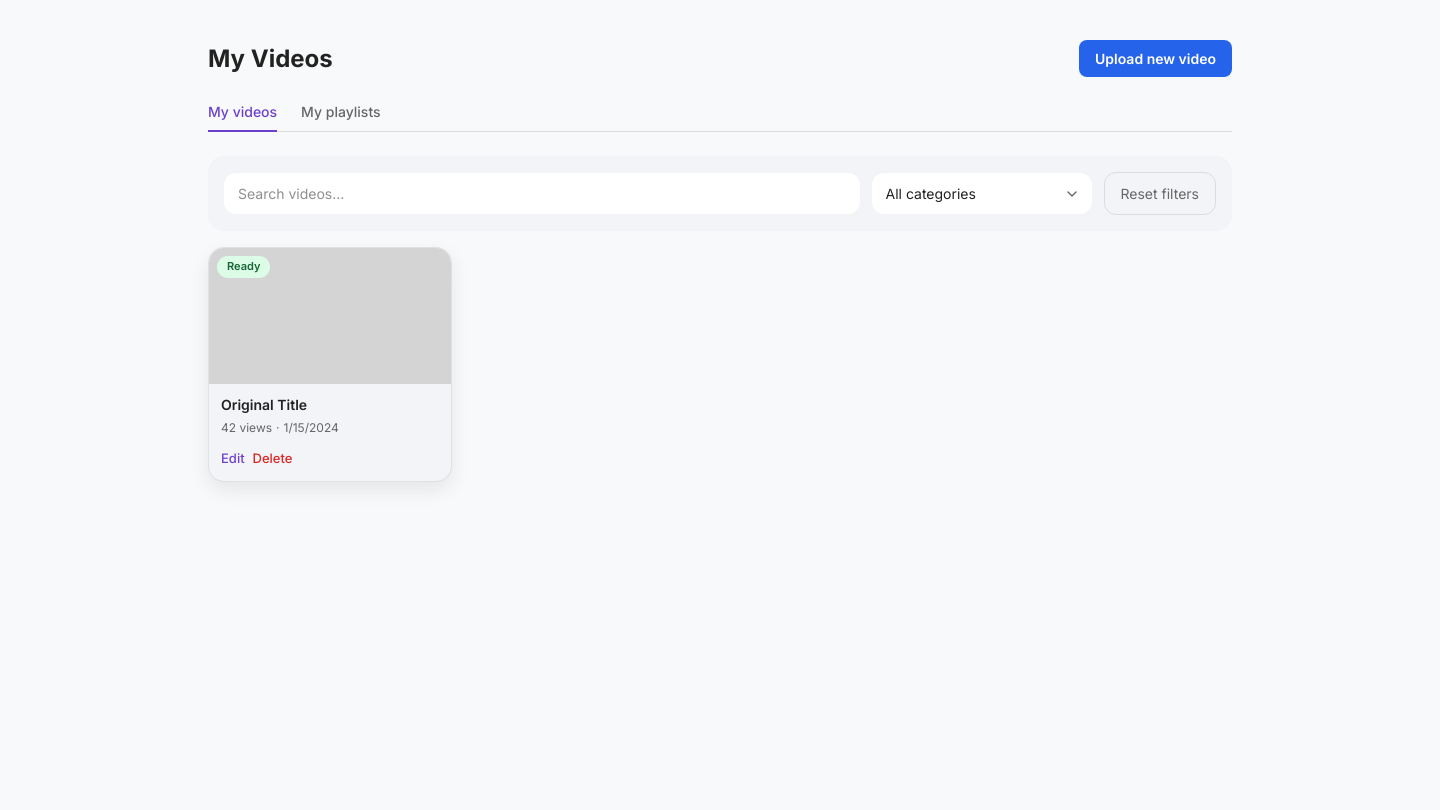
Test case: DashboardPage › edit modal has title input pre-populated with current video title
Click the button with aria-label "edit original title" at (233, 459), box [221, 449, 245, 468]
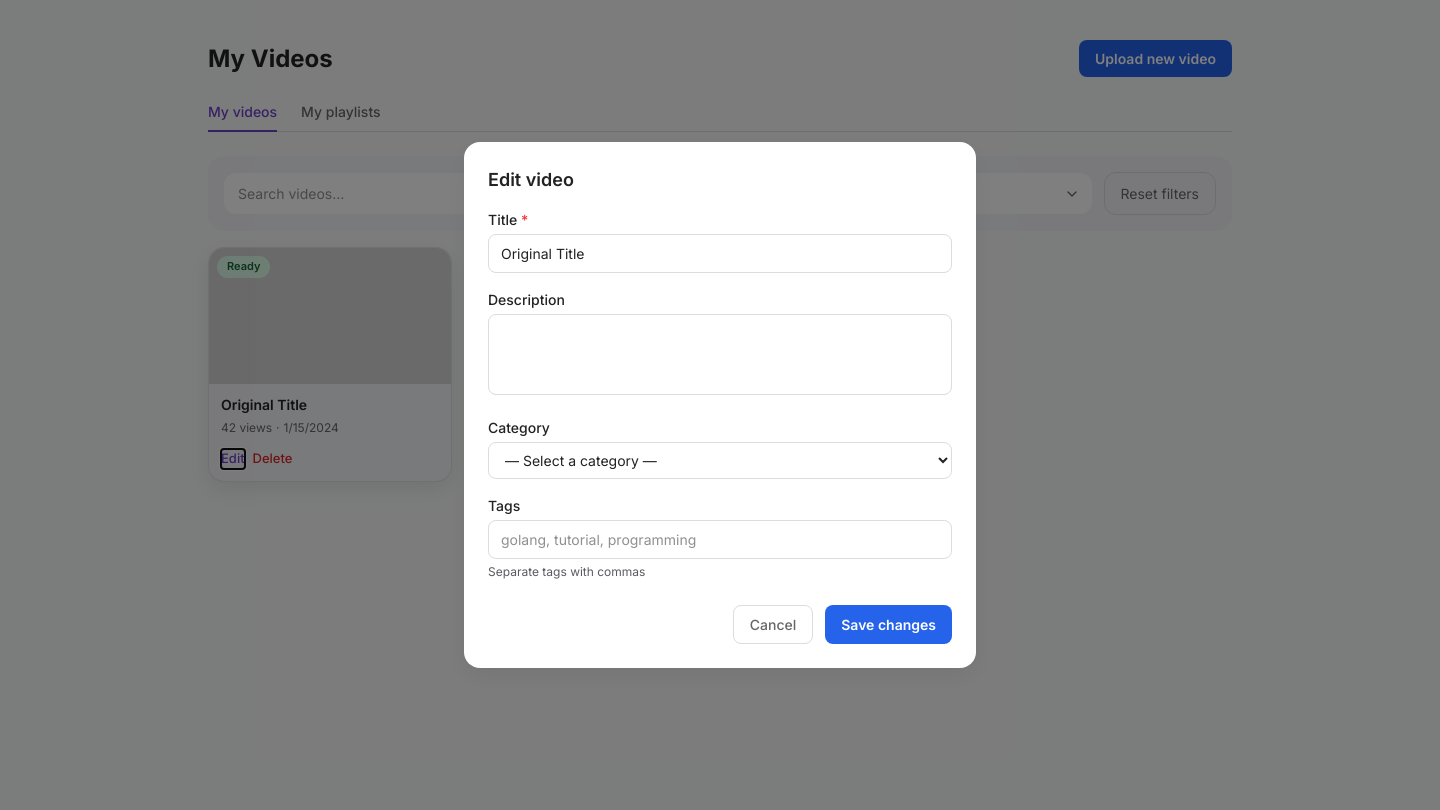
Now the field labelled "Title *" holds "Original Title", box [488, 234, 952, 273]
